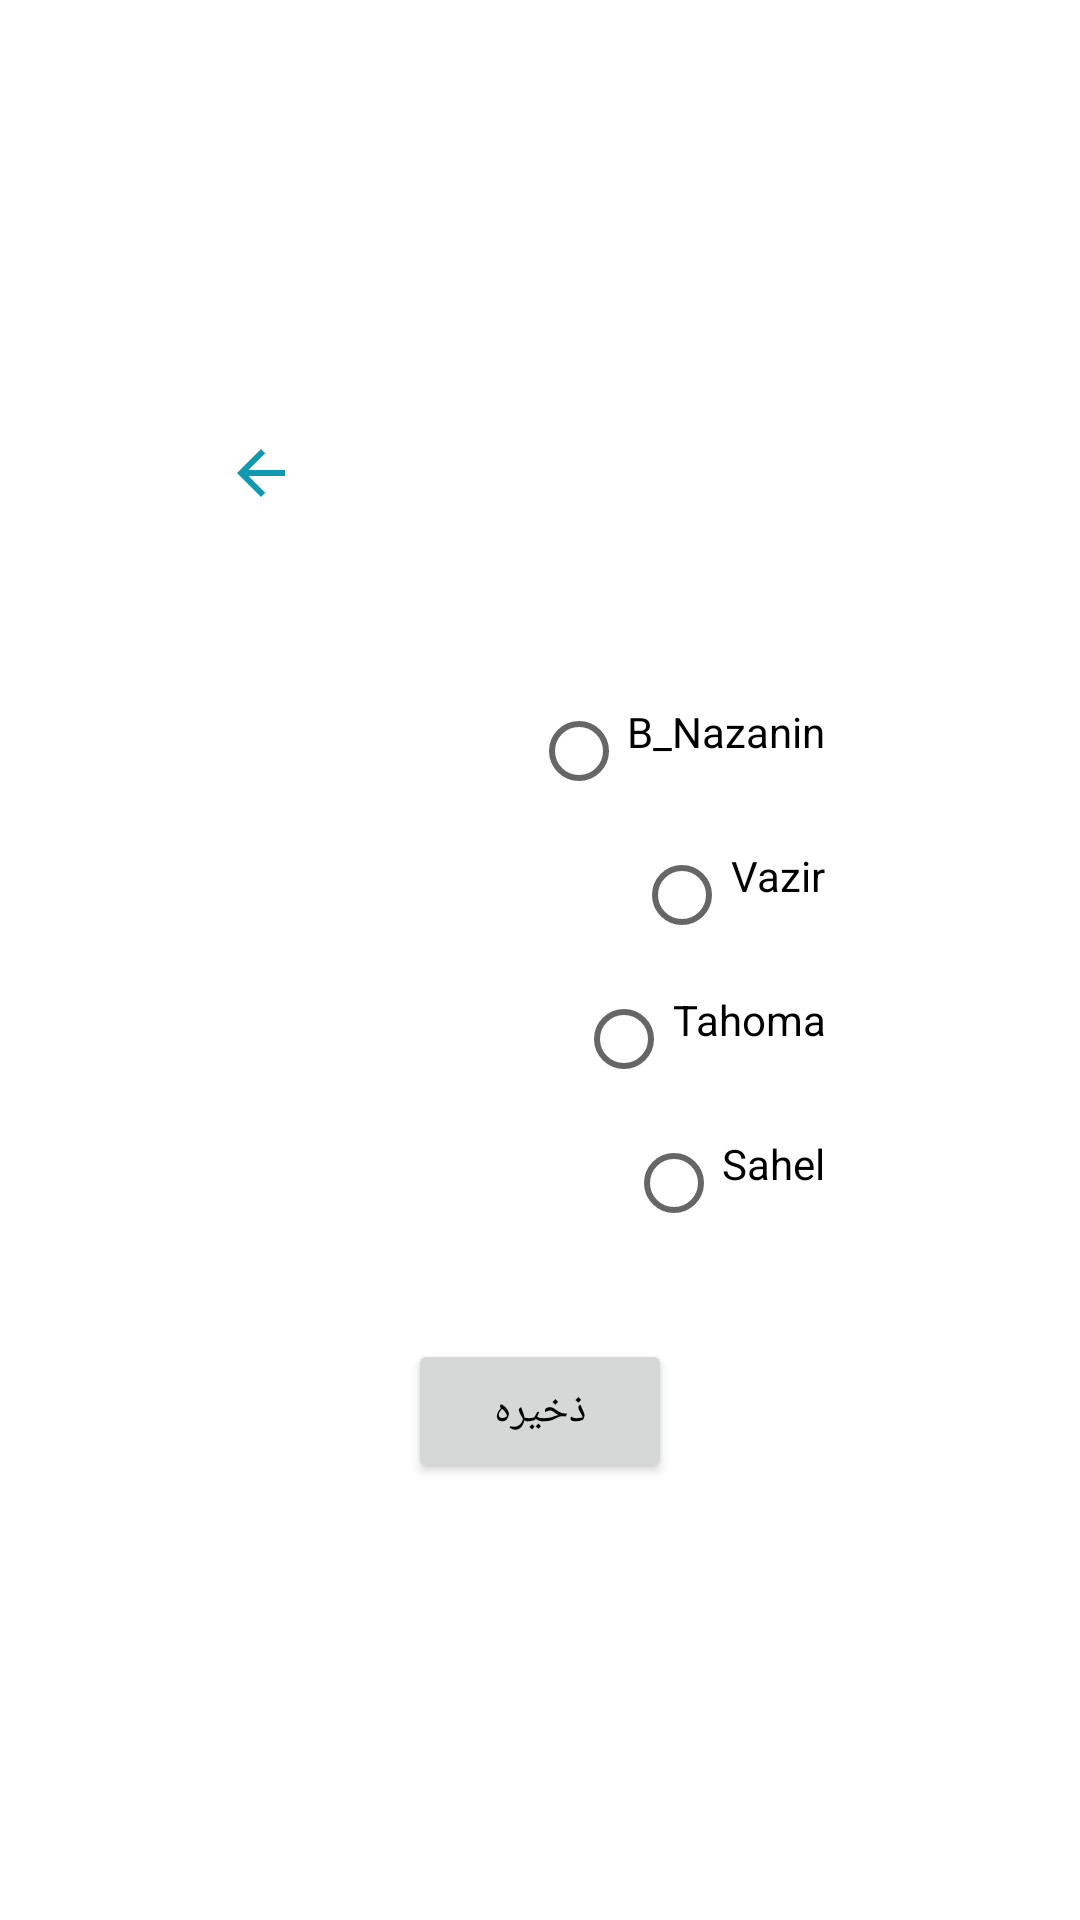

Where to tap for icons on this 1080x1920 app screen, as (x=x, y=y):
back: (x=261, y=473)
